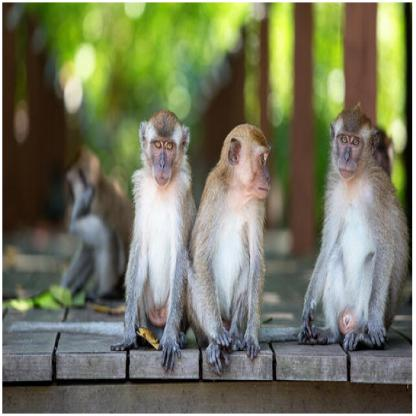monkey: (293, 99, 410, 348), (188, 118, 276, 375), (114, 108, 192, 363)
